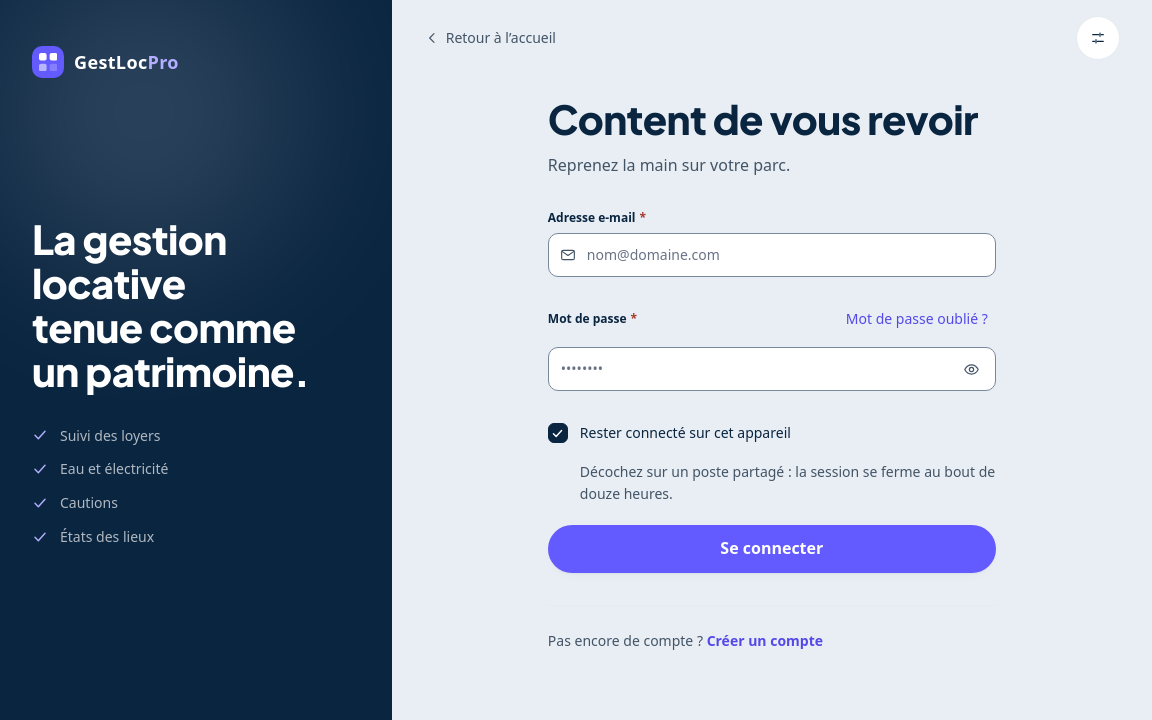
Scenario: la session qui échoue après la connexion › ne reproche plus une erreur au formulaire quand l’identification a réussi
Type "sarah@example.com" into the field labelled "Adresse e-mail*" at (772, 255), box 548,233 -> 996,277
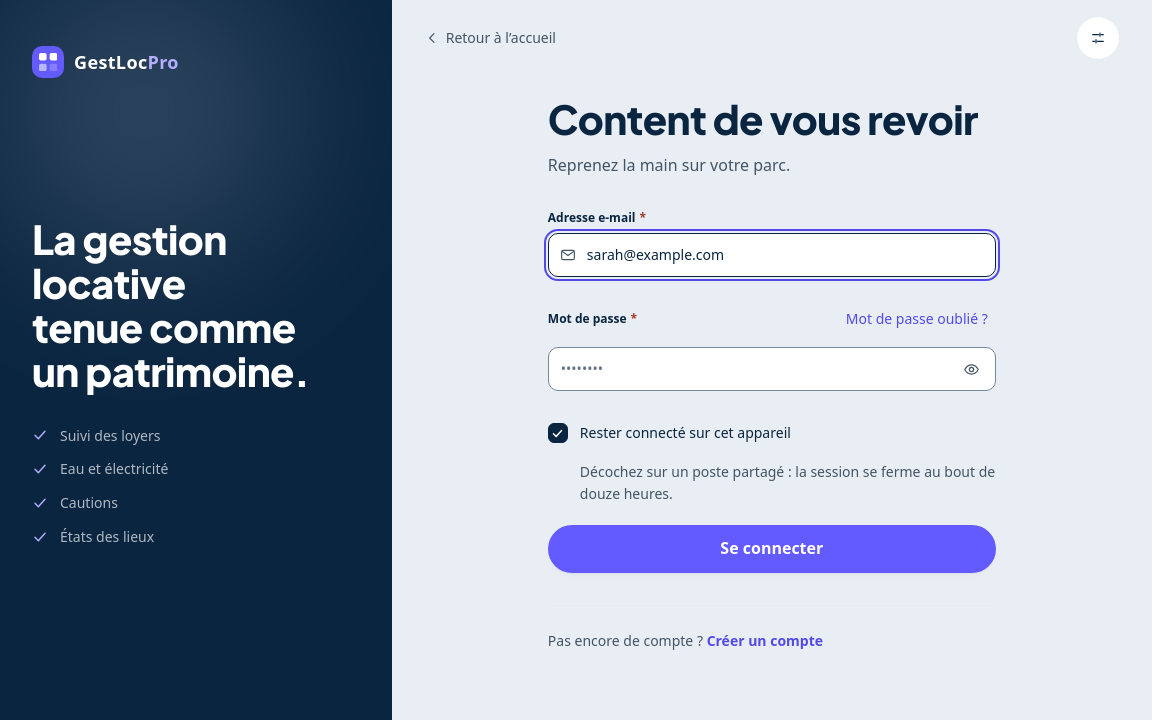
Type "Bonamoussadi2026!" into the password field labelled "Mot de passe*" at (772, 369), box 548,347 -> 996,391
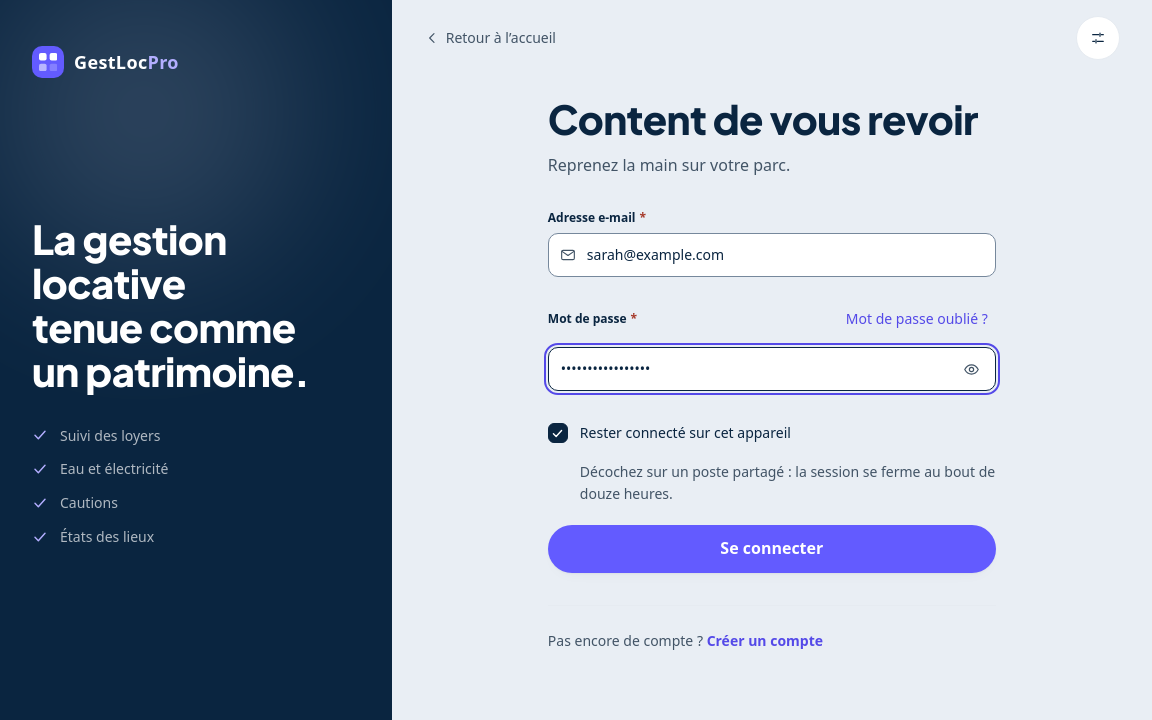
Click the button "Se connecter" at (772, 548), box 548,524 -> 996,572
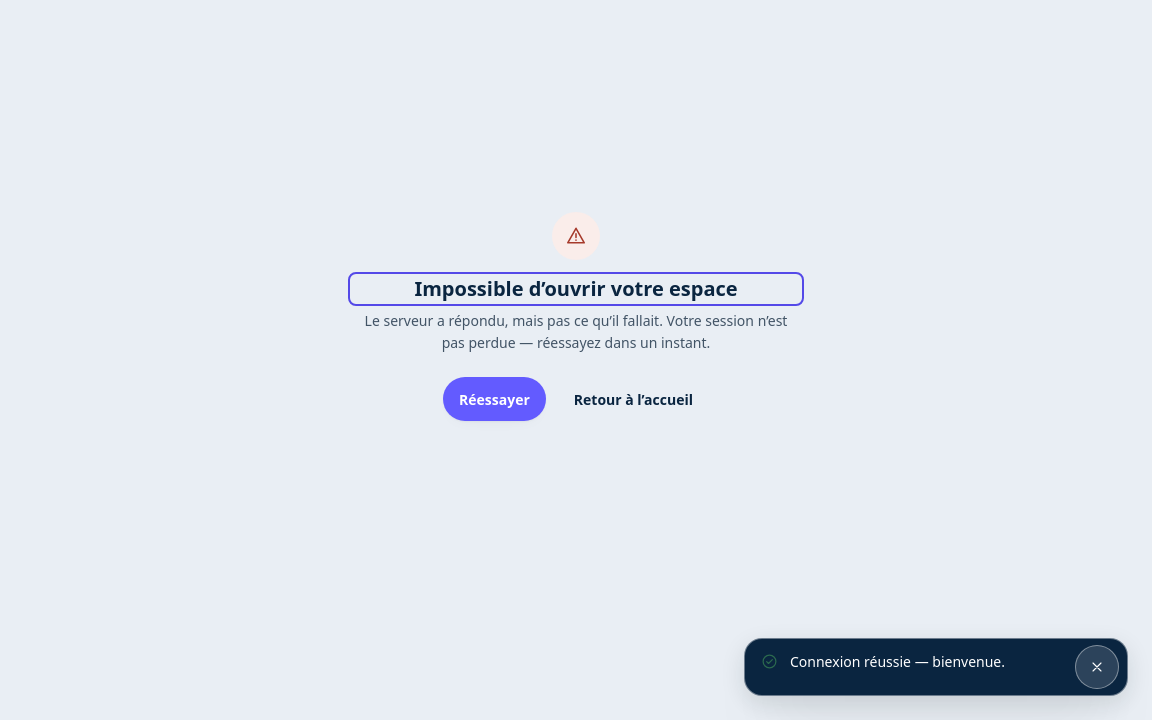
Now the button "Réessayer" is shown, box 443,378 -> 546,422
